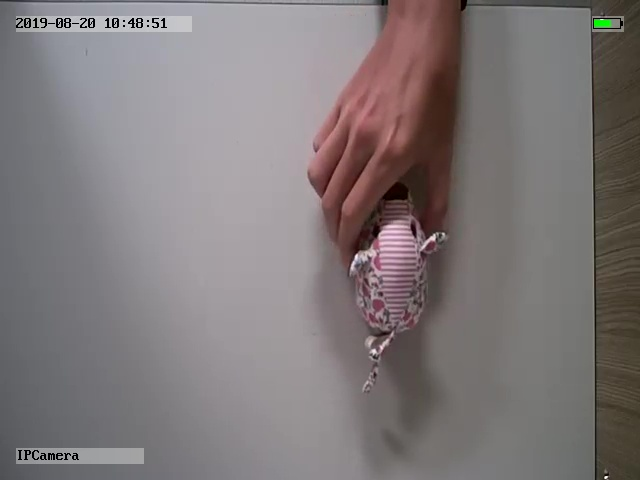pig: (349, 180, 449, 394)
